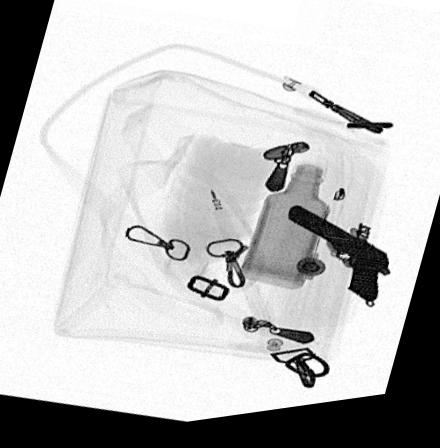Gun: (286, 212, 388, 314)
